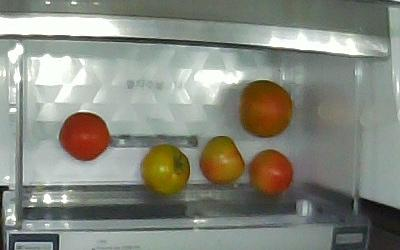tomato: (241, 80, 292, 137), (141, 144, 191, 196), (59, 112, 110, 162), (199, 136, 245, 184), (250, 149, 293, 194)
